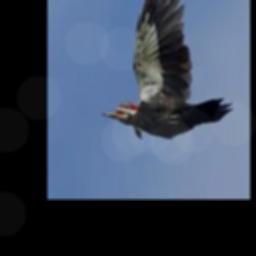Woodpecker: (101, 0, 233, 137)
